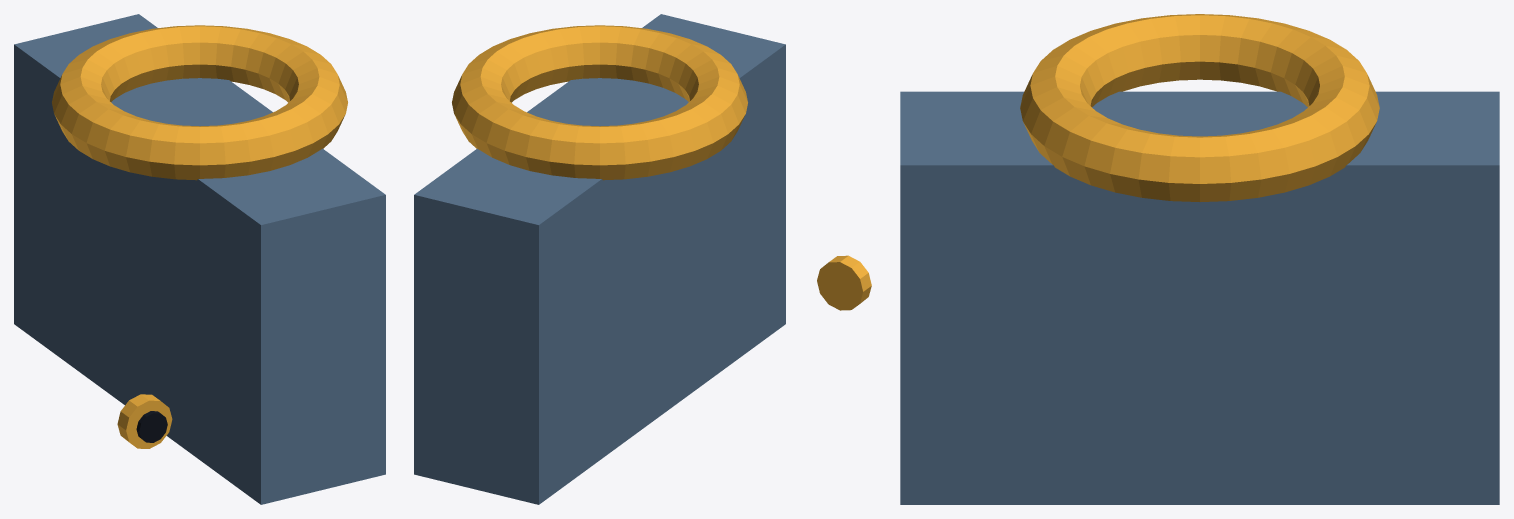
Rendered from 45_L86_RadiatorGrappleHandleFixture.fbx.
3 renders of one model, left to right at view 1: azimuth 30°, elevation 25°; view 2: azimuth 150°, elevation 25°; view 3: azimuth 270°, elevation 25°, orthographic. The views are drawn at different scales.
Visible parts, largest first — view 1: L86_RadiatorGrappleHandleFixture_Part_0000, L86_RadiatorGrappleHandleFixture_Part_0001, L86_RadiatorGrappleHandleFixture_Part_0002, L86_RadiatorGrappleHandleFixture_Part_0003; view 2: L86_RadiatorGrappleHandleFixture_Part_0000, L86_RadiatorGrappleHandleFixture_Part_0001, L86_RadiatorGrappleHandleFixture_Part_0002; view 3: L86_RadiatorGrappleHandleFixture_Part_0000, L86_RadiatorGrappleHandleFixture_Part_0001.
Part boxes in pixels (box(x1,y1,x2,y2)): L86_RadiatorGrappleHandleFixture_Part_0000: box(14, 14, 385, 504); L86_RadiatorGrappleHandleFixture_Part_0001: box(52, 25, 347, 180); L86_RadiatorGrappleHandleFixture_Part_0002: box(117, 394, 172, 448); L86_RadiatorGrappleHandleFixture_Part_0003: box(136, 411, 167, 442); L86_RadiatorGrappleHandleFixture_Part_0000: box(414, 14, 785, 504); L86_RadiatorGrappleHandleFixture_Part_0001: box(452, 25, 747, 180); L86_RadiatorGrappleHandleFixture_Part_0002: box(817, 255, 871, 310); L86_RadiatorGrappleHandleFixture_Part_0000: box(900, 91, 1499, 504); L86_RadiatorGrappleHandleFixture_Part_0001: box(1020, 14, 1379, 201).
Bounding box in the file's own units: 84.5 × 86.5 × 120.
